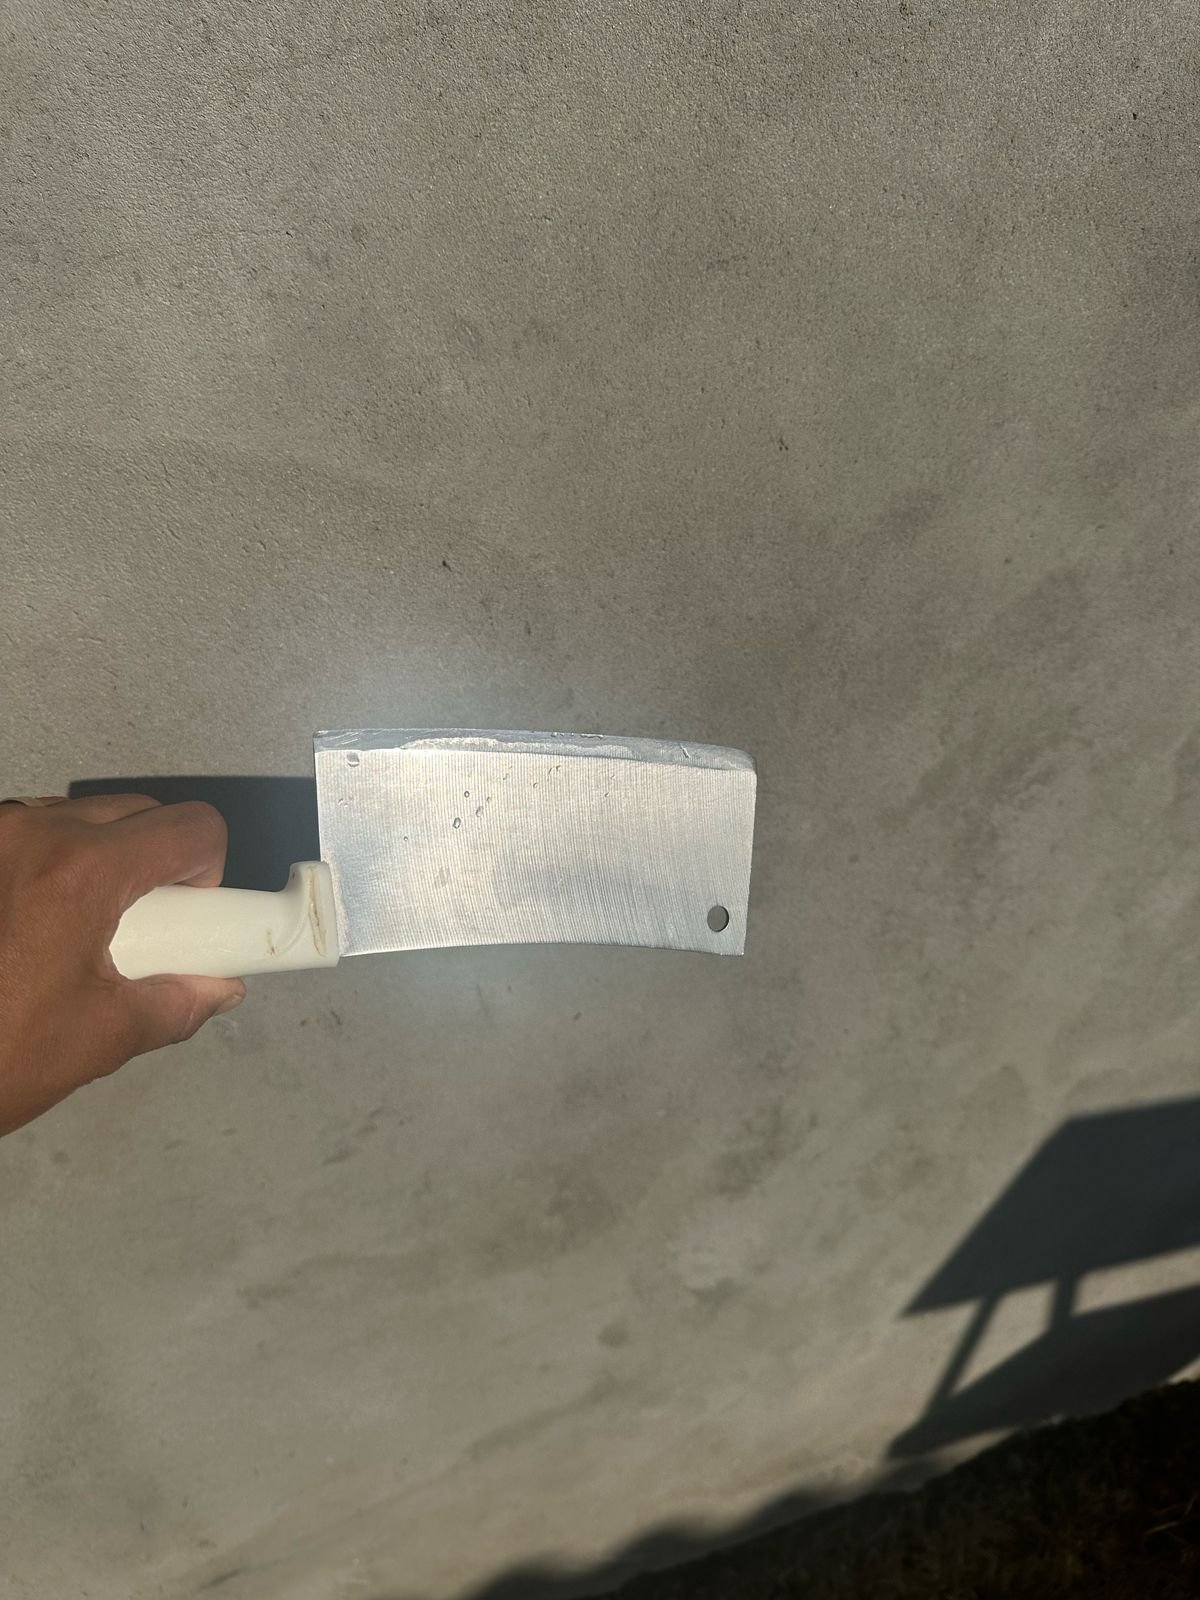faca: (260, 718, 795, 984)
